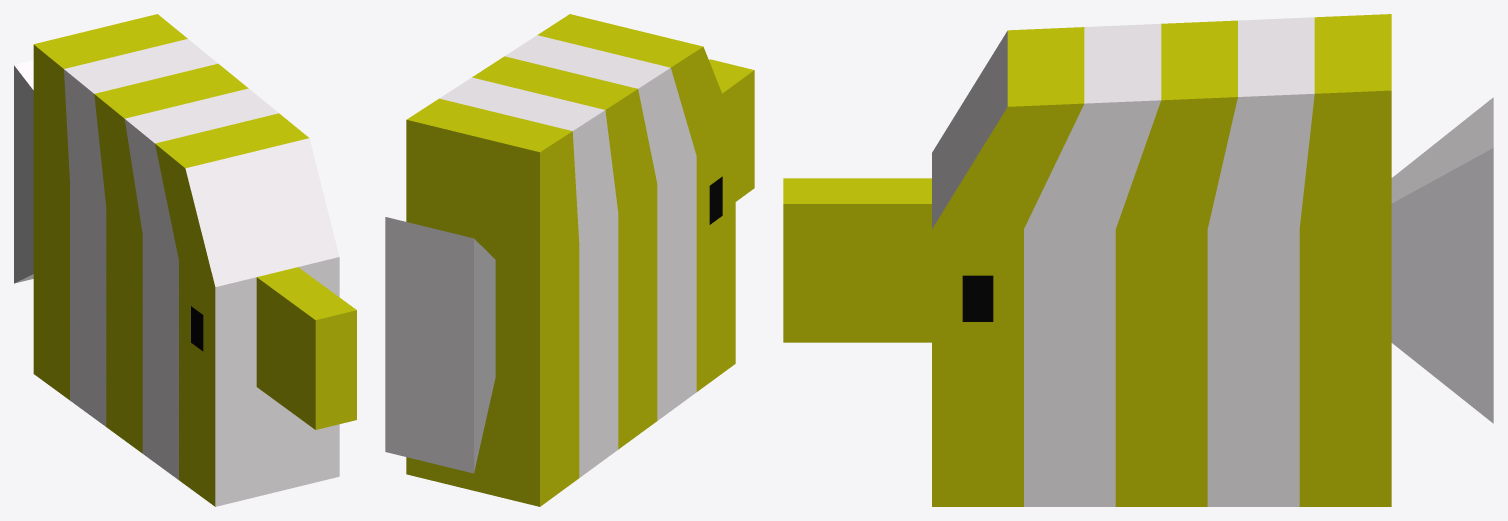
The model's file is lampless yellow-white fish.fbx.
3 renders of one model, left to right at view 1: azimuth 30°, elevation 25°; view 2: azimuth 150°, elevation 25°; view 3: azimuth 270°, elevation 25°, orthographic. The views are drawn at different scales.
Visible parts, largest first — view 1: Cube; view 2: Cube; view 3: Cube.
Boxes of the visible parts, box(x1,y1,x2,y2) form: Cube: box(14, 14, 356, 506); Cube: box(385, 14, 754, 506); Cube: box(783, 14, 1493, 506).
Size of the model in its own units: 118 by 300 by 464.
